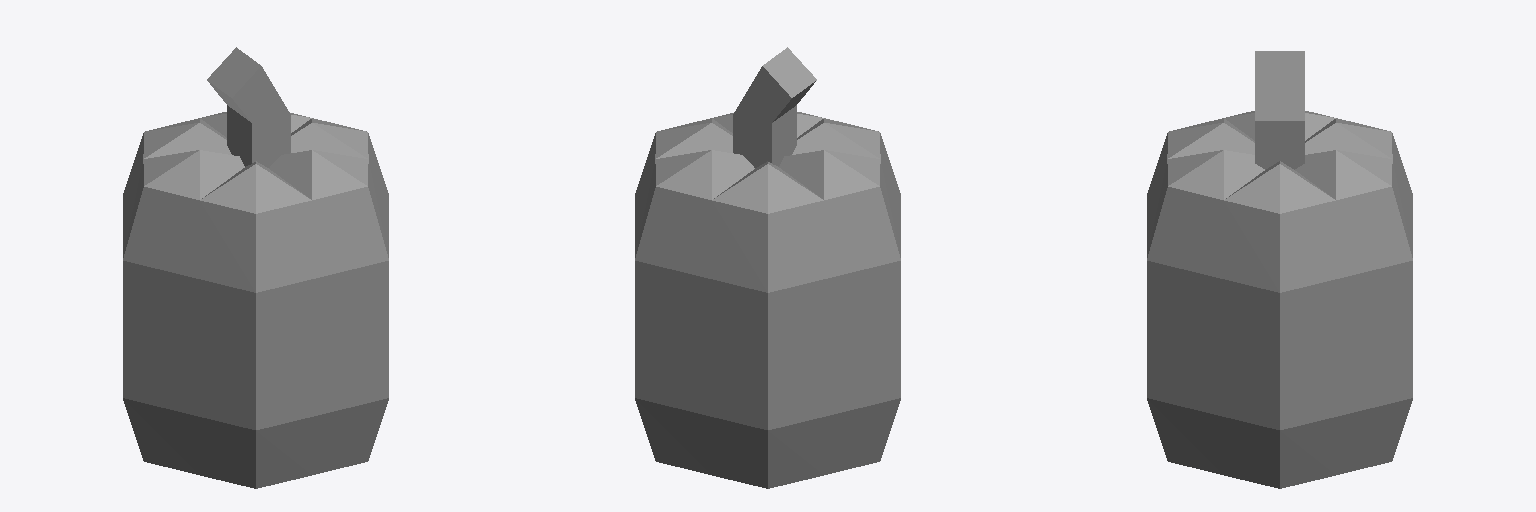
Rendered from pumpkin_02_02_c.obj.
The picture shows the model from 3 angles: view 1: azimuth 30°, elevation 25°; view 2: azimuth 150°, elevation 25°; view 3: azimuth 270°, elevation 25°; orthographic projection.
Visible parts, largest first — view 1: pumpkin_02_02_c; view 2: pumpkin_02_02_c; view 3: pumpkin_02_02_c.
Part boxes in pixels (bbox=[...]): pumpkin_02_02_c: bbox=[123, 47, 388, 488]; pumpkin_02_02_c: bbox=[635, 47, 900, 488]; pumpkin_02_02_c: bbox=[1147, 51, 1412, 488].
Bounding box in the file's own units: 1.01 × 1.46 × 0.8751.